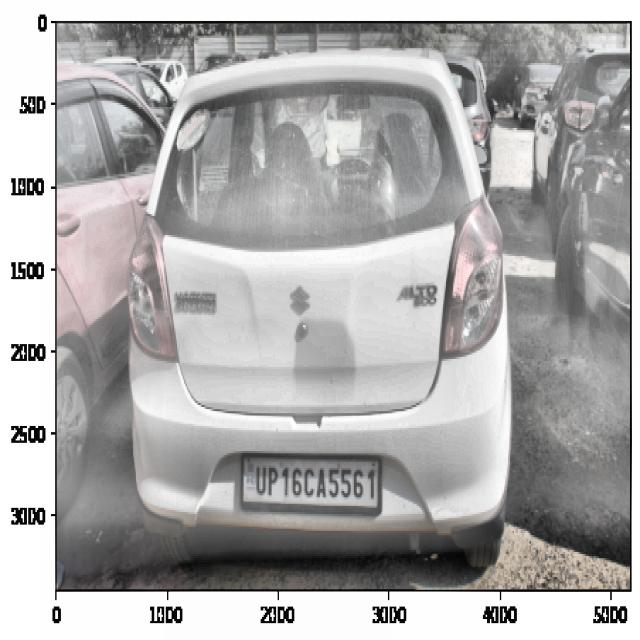license_plate: (250, 459, 379, 507)
